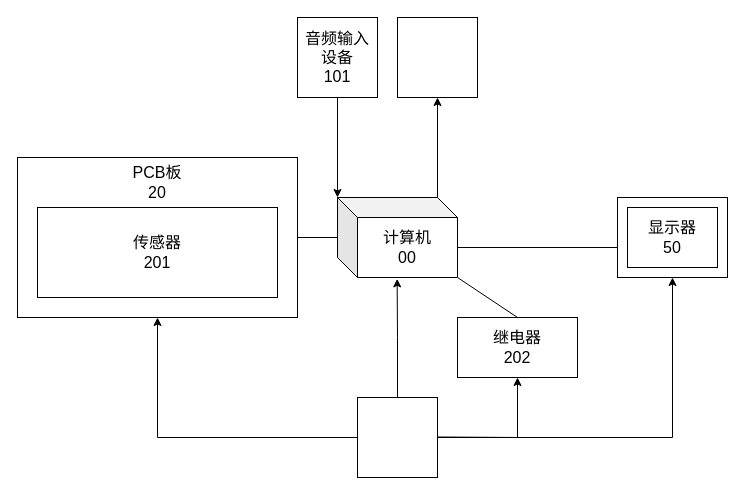
This 745x495 diagram has some shape labels left out. Each missing label, with the centre of its shape:
"电源 40" belongs at (x=397, y=437).
"音频输出设备 102" belongs at (x=437, y=57).
